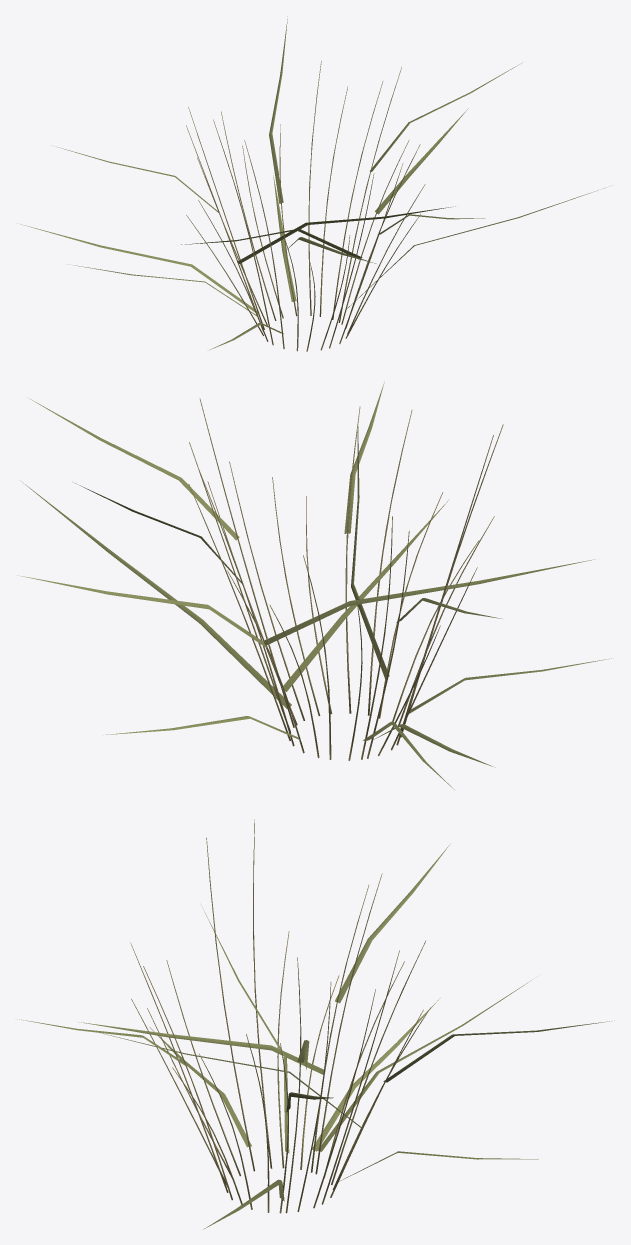
Rendered from Herbes_1_Niveau2.fbx.
3 renders of one model, top to bottom at view 1: azimuth 30°, elevation 25°; view 2: azimuth 150°, elevation 25°; view 3: azimuth 270°, elevation 25°, orthographic. The views are drawn at different scales.
Visible parts, largest first — view 1: Herbes_1_Niveau2_Jeu; view 2: Herbes_1_Niveau2_Jeu; view 3: Herbes_1_Niveau2_Jeu.
Boxes of the visible parts, x1,y1,x2,y2 form: Herbes_1_Niveau2_Jeu: (20, 16, 605, 351); Herbes_1_Niveau2_Jeu: (19, 382, 613, 789); Herbes_1_Niveau2_Jeu: (17, 819, 614, 1229).
Bounding box in the file's own units: 83.61 × 41.94 × 74.12.
